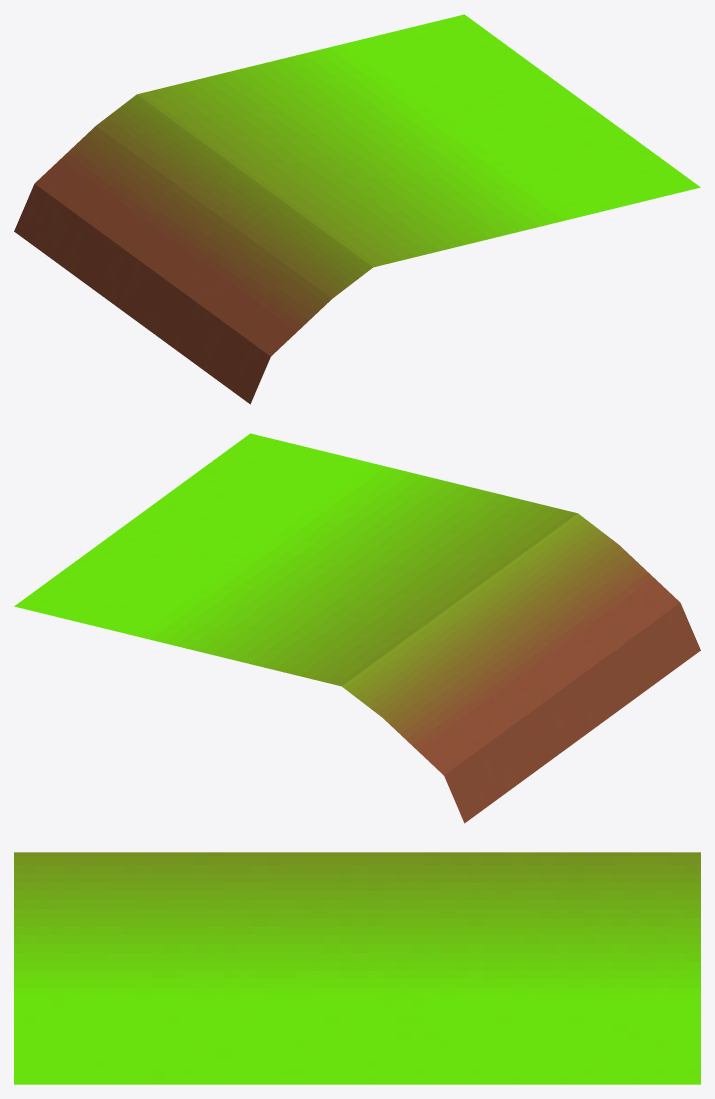
File: oever.fbx
3 views of the same model, one above another, from view 1: azimuth 30°, elevation 25°; view 2: azimuth 150°, elevation 25°; view 3: azimuth 270°, elevation 25° (orthographic). The views are drawn at different scales.
Visible parts, largest first — view 1: Polygon; view 2: Polygon; view 3: Polygon.
Boxes of the visible parts, bbox=[...] form: Polygon: bbox=[14, 14, 700, 404]; Polygon: bbox=[14, 433, 700, 823]; Polygon: bbox=[14, 852, 700, 1084].
Bounding box in the file's own units: 220 × 50 × 200.
Materials: 1 (1 with a texture image).
